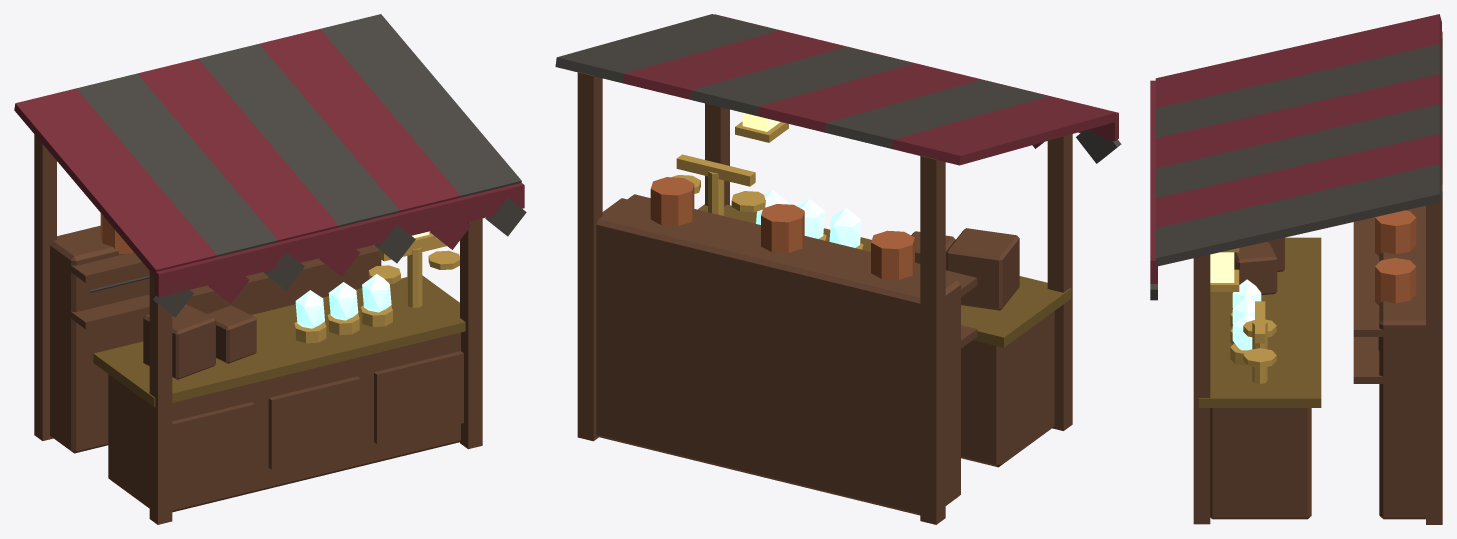
Rendered from BancaMercado.fbx.
3 views of the same model, side by side, from view 1: azimuth 30°, elevation 25°; view 2: azimuth 150°, elevation 25°; view 3: azimuth 270°, elevation 25° (orthographic). The views are drawn at different scales.
Parts seen in each view (by area): view 1: Corpo, Bandeirola, CristalPulso; view 2: Corpo, CristalPulso, Bandeirola; view 3: Corpo, Bandeirola, CristalPulso, JanelaAndar0.
Part boxes in pixels (x1,y1,x2,y2): Corpo: (14, 14, 521, 524); Bandeirola: (153, 183, 526, 317); CristalPulso: (295, 274, 391, 328); Corpo: (555, 14, 1115, 524); CristalPulso: (756, 190, 861, 247); Bandeirola: (715, 14, 1121, 163); Corpo: (1155, 14, 1442, 524); Bandeirola: (1150, 80, 1157, 300); CristalPulso: (1232, 279, 1261, 350); JanelaAndar0: (1210, 252, 1234, 282).
Size of the model in its own units: 3.34 by 2.91 by 2.26.
